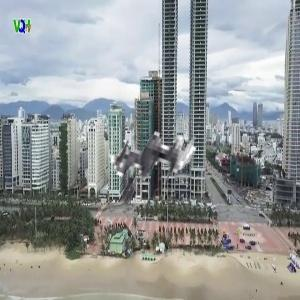drone: (103, 103, 203, 203)
